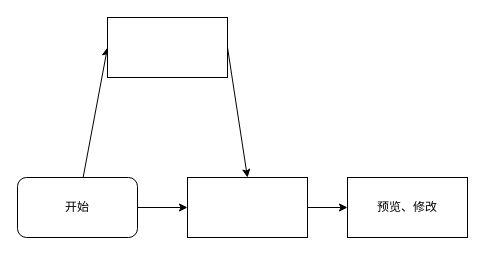
This 485x255 diagram has some shape labels left out. The shapes that lost their labels are listed below. From the top down, each one's centre as x and y in pixels, then its label:
At point (167, 47): "写邮件标题正文".
At point (247, 207): "导入Excal解析出 1. 邮箱 2. 剩余信息".
